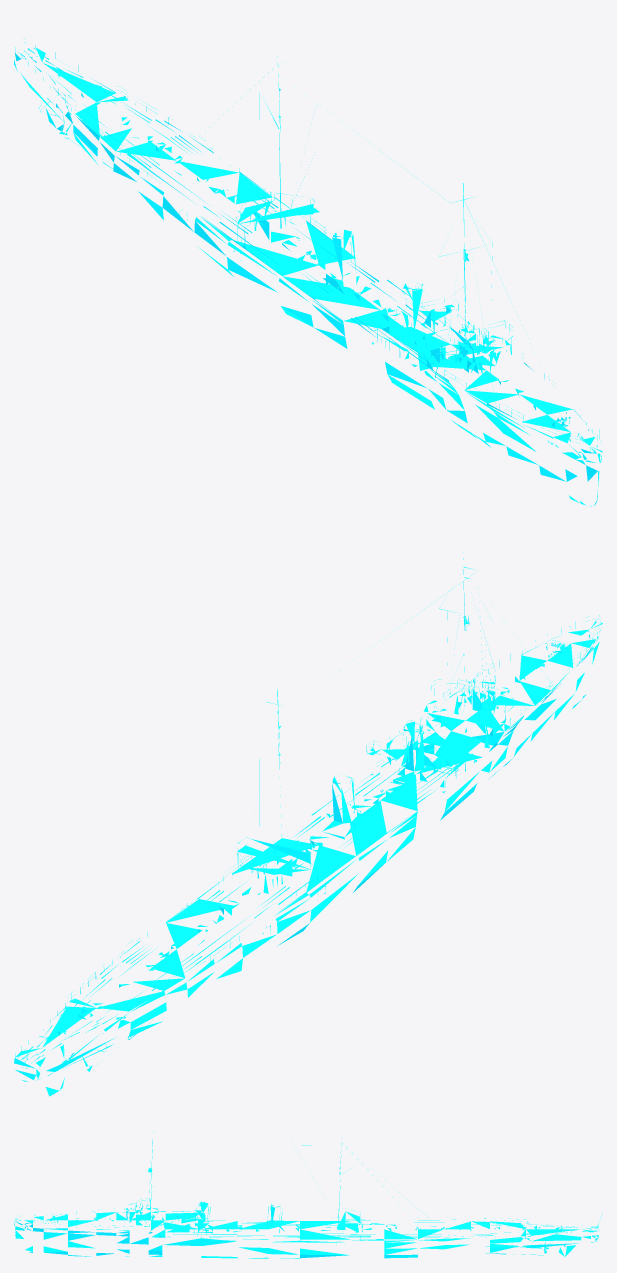
Rendered from Okhotnik.glb.
The picture shows the model from 3 angles, top to bottom: view 1: azimuth 30°, elevation 25°; view 2: azimuth 150°, elevation 25°; view 3: azimuth 270°, elevation 25°; orthographic projection. The views are drawn at different scales.
Size of the model in its own units: 0.7705 by 2.21 by 8.97.
